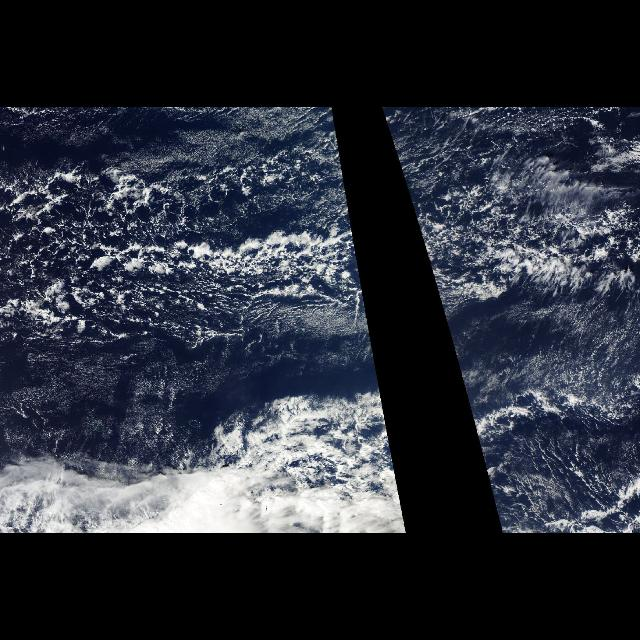Fish: (2, 150, 382, 394), (392, 150, 640, 394)
Gravel: (4, 138, 360, 350)
Sugar: (10, 346, 210, 466), (454, 306, 638, 398)
